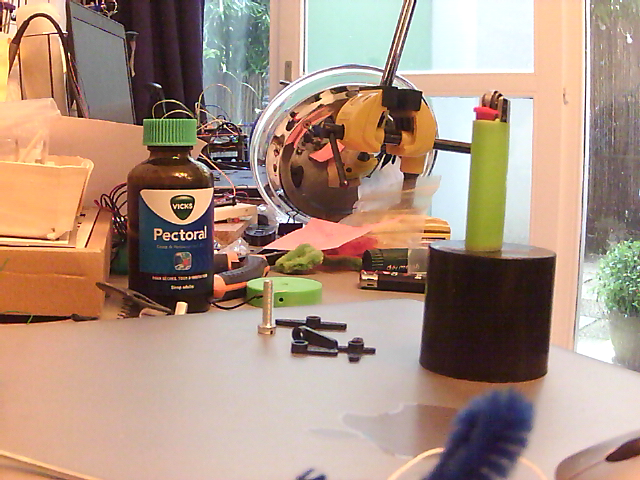bolt: (257, 280, 278, 335)
lighter: (462, 91, 513, 255), (359, 269, 426, 292)
